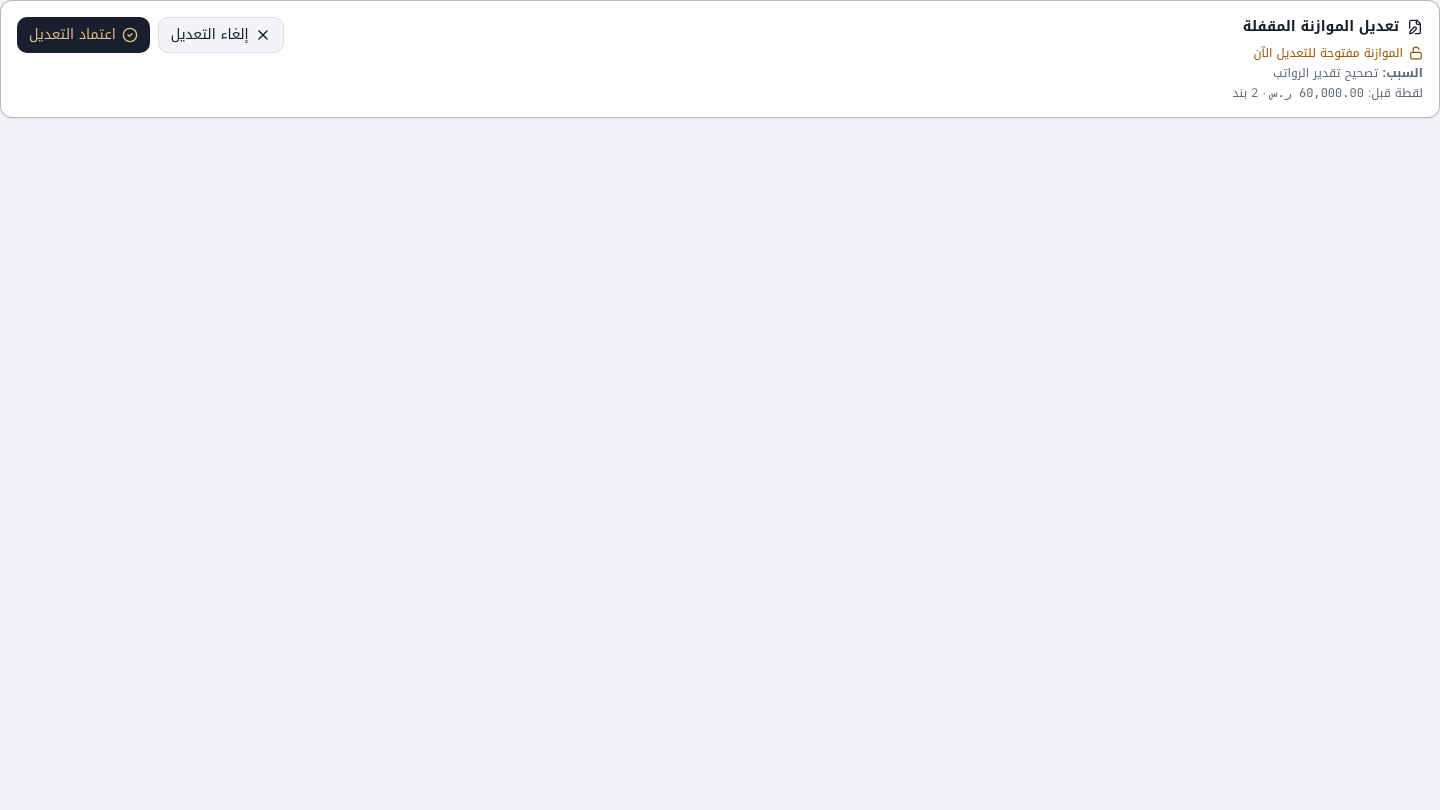
Scenario: an open draft › cancels only after confirmation
The width and height of the screenshot is (1440, 810).
Later steps or results of the test are not shown.
Click the button "إلغاء التعديل": click(221, 35) [158,17,284,53]
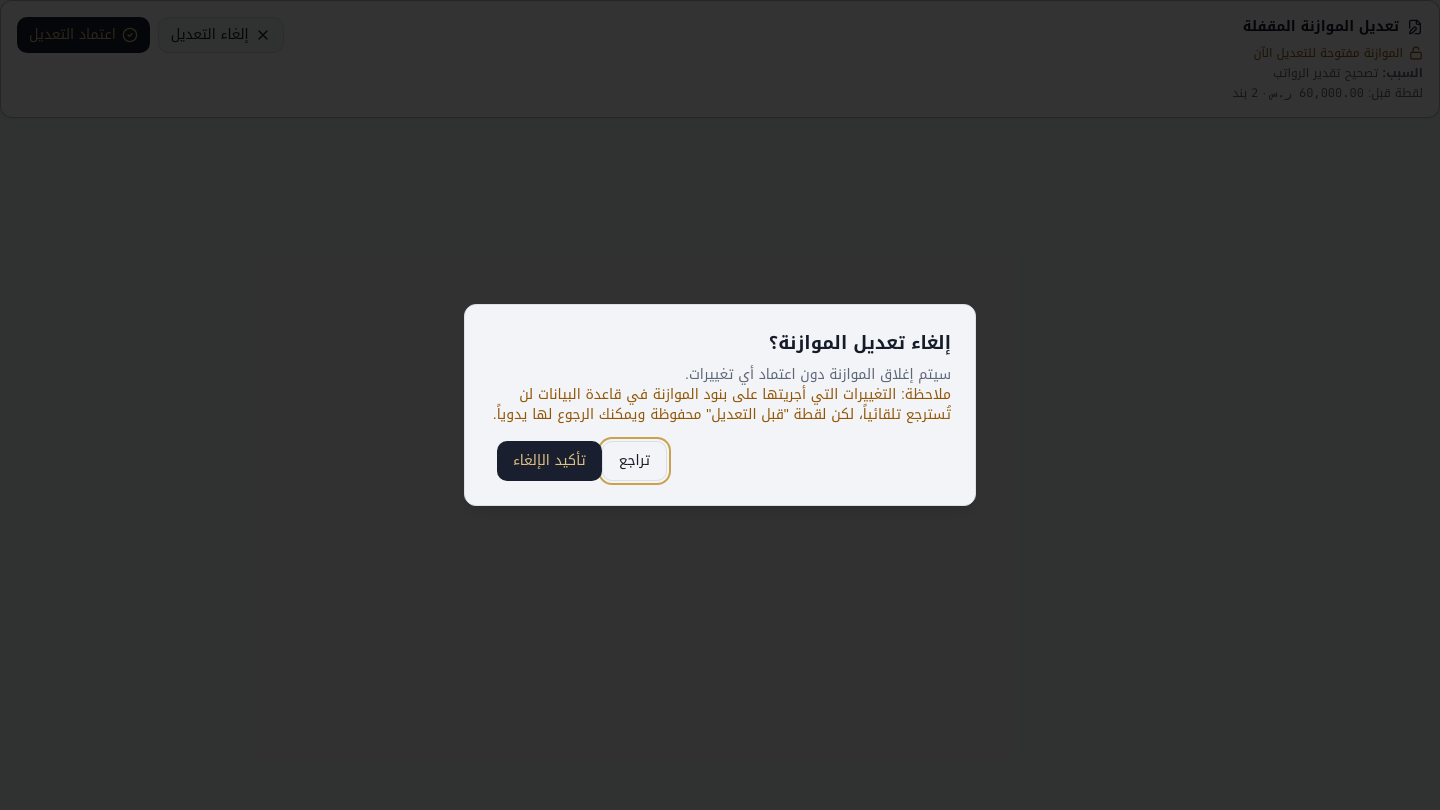
Check: the text "لن تُسترجع تلقائياً" is shown, box [493,381,951,428]
